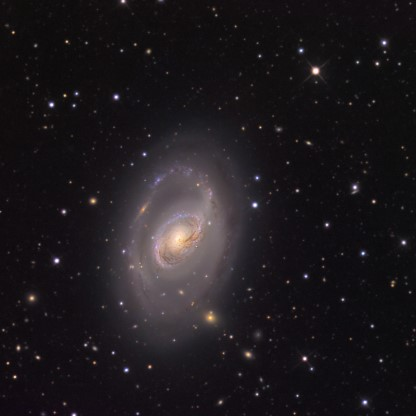Messier 96: (95, 124, 254, 356)
